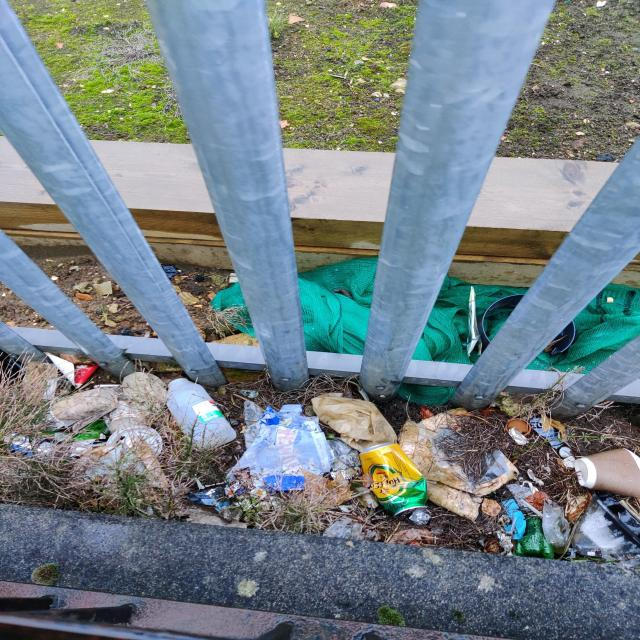litter: (220, 409, 335, 494), (158, 375, 241, 454), (357, 443, 425, 512), (309, 392, 401, 443), (576, 449, 637, 496), (113, 422, 170, 462)
